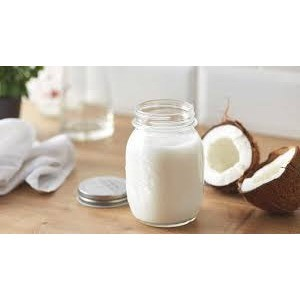milk_brain food: (119, 109, 204, 229)
